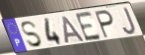4: (43, 17, 63, 47)
A: (62, 15, 86, 45)
E: (74, 10, 103, 43)
J: (122, 6, 138, 36)
P: (94, 9, 115, 40)
S: (20, 20, 44, 49)
